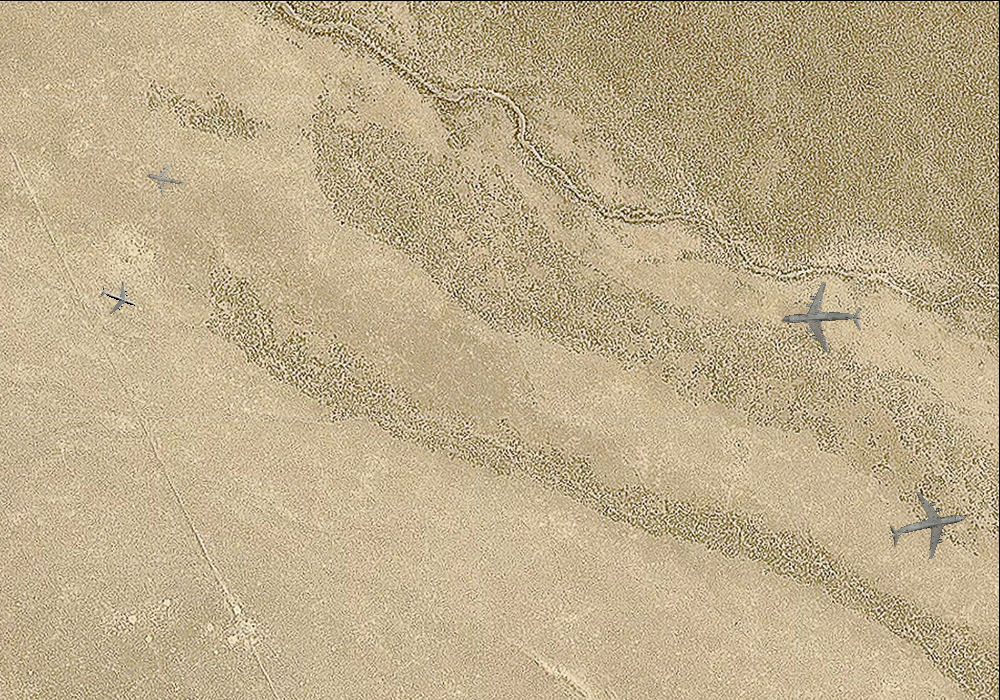plane: (882, 482, 973, 570), (780, 278, 864, 358), (94, 275, 141, 321), (142, 156, 189, 201)
